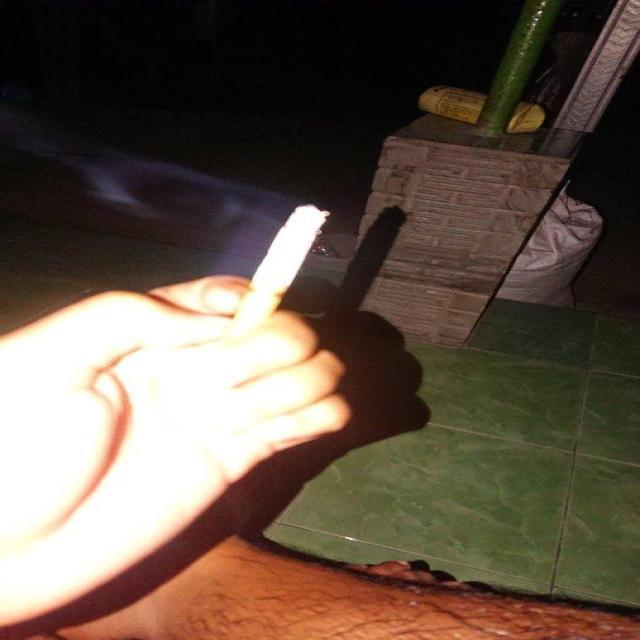rokok: (230, 199, 352, 341)
